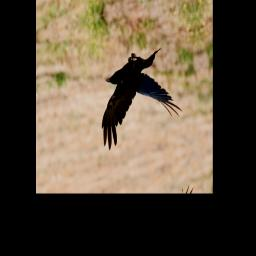Crow: (90, 39, 185, 154)
